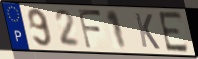1: (105, 10, 129, 52)
2: (54, 9, 82, 50)
9: (26, 7, 53, 48)
E: (157, 11, 191, 54)
F: (77, 8, 104, 51)
K: (133, 12, 162, 51)
